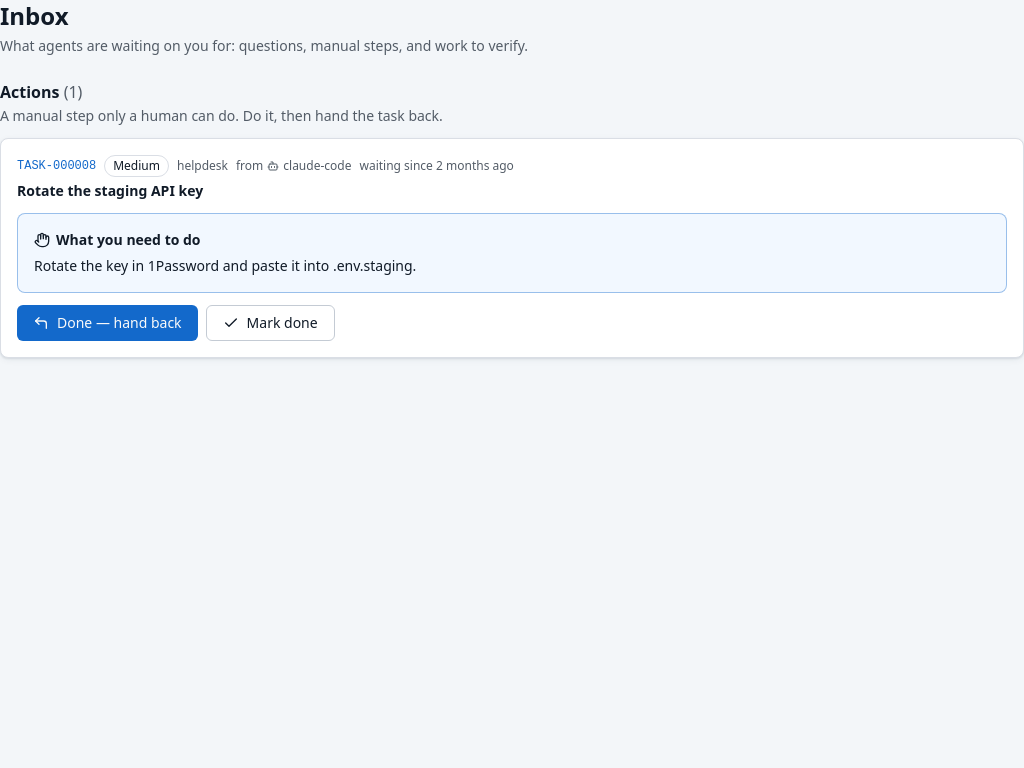
Test: InboxPage — manual actions › asks for acceptance criteria before handing back a task that has none
The image size is (1024, 768).
Click the button "Done — hand back": {"x": 107, "y": 323} [17,305,198,341]
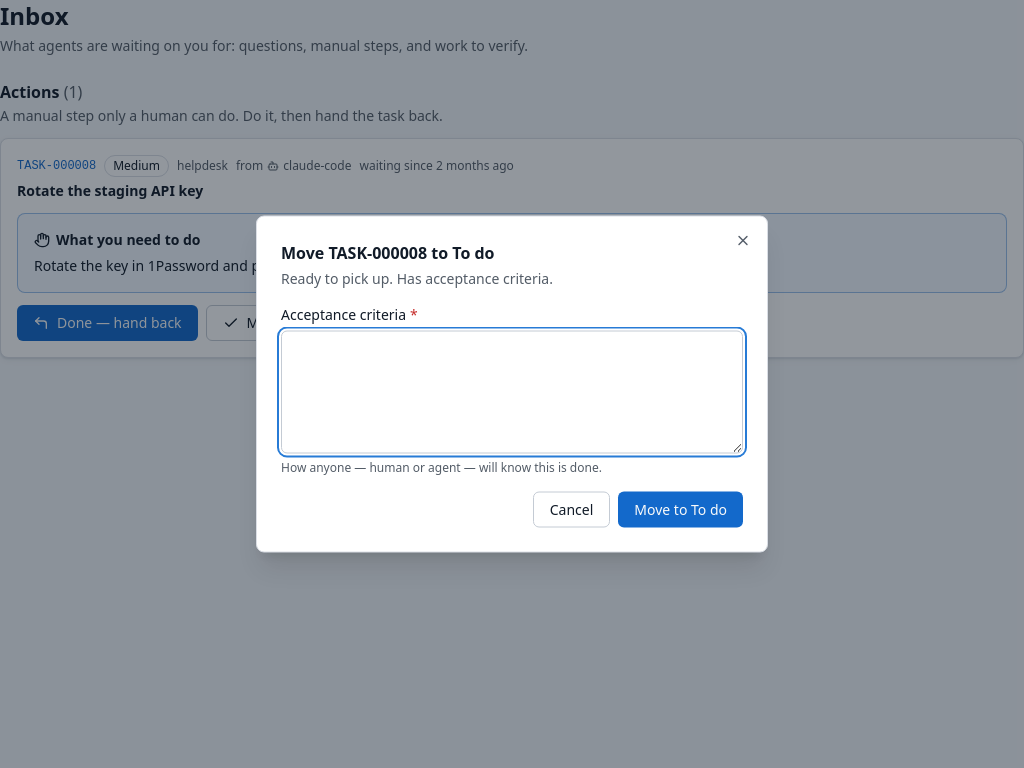
Expected: the dialog "Move TASK-000008 to To do" is shown, [256,216,768,552]
